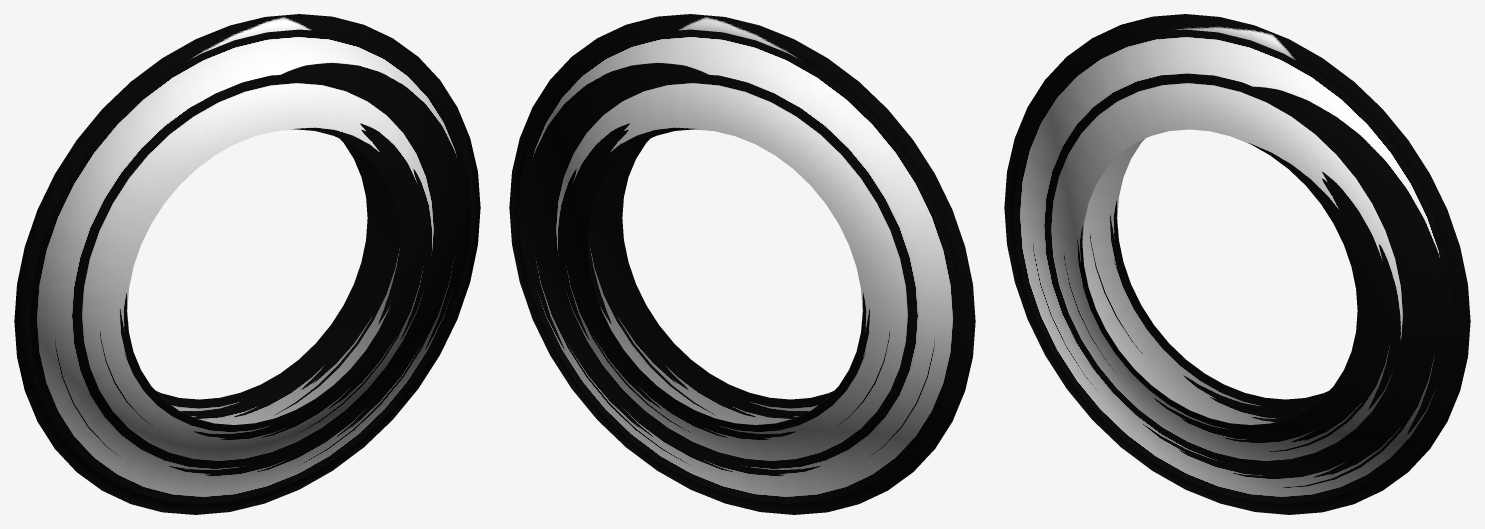
Rendered from Slash3.fbx.
The picture shows the model from 3 angles, left to right: view 1: azimuth 30°, elevation 25°; view 2: azimuth 150°, elevation 25°; view 3: azimuth 330°, elevation 25°; orthographic projection.
Visible parts, largest first — view 1: Eff_Model_BladeTrail_19; view 2: Eff_Model_BladeTrail_19; view 3: Eff_Model_BladeTrail_19.
Part boxes in pixels (bbox=[...]): Eff_Model_BladeTrail_19: bbox=[14, 14, 480, 514]; Eff_Model_BladeTrail_19: bbox=[509, 14, 975, 514]; Eff_Model_BladeTrail_19: bbox=[1004, 14, 1470, 514].
Bounding box in the file's own units: 90.57 × 90.32 × 11.73.
